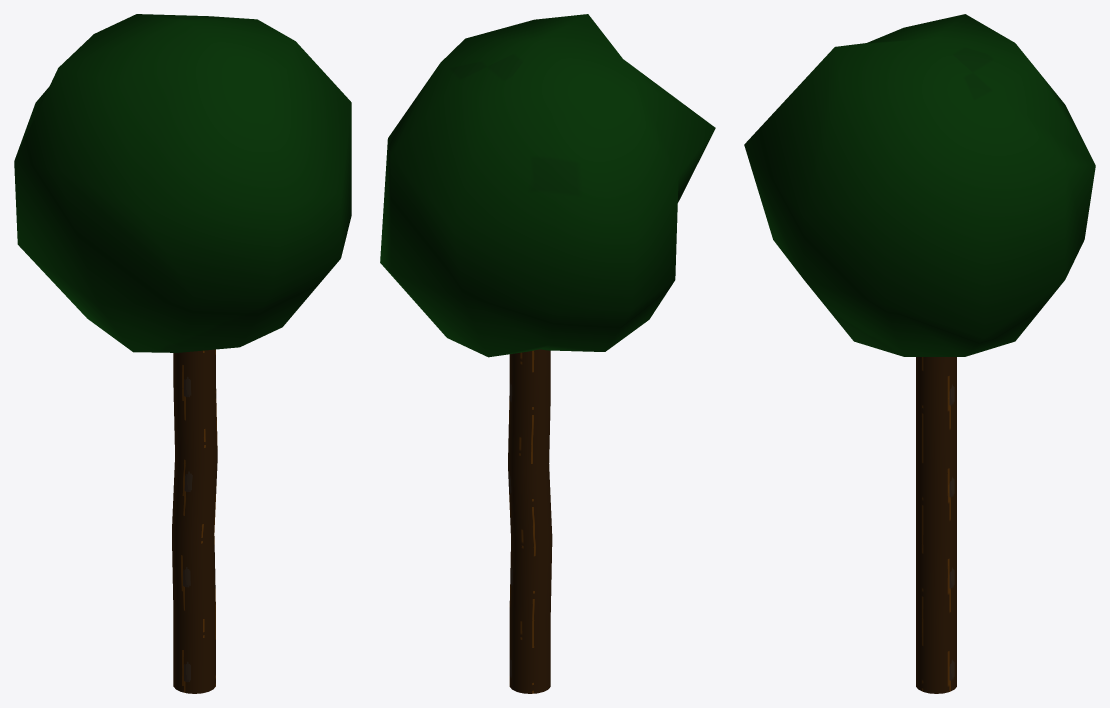
Rendered from baum_export.FBX.
The picture shows the model from 3 angles, left to right: view 1: azimuth 30°, elevation 25°; view 2: azimuth 150°, elevation 25°; view 3: azimuth 270°, elevation 25°; orthographic projection. The views are drawn at different scales.
Parts seen in each view (by area): view 1: Sphere001, Cylinder001; view 2: Sphere001, Cylinder001; view 3: Sphere001, Cylinder001.
Boxes of the visible parts, x1,y1,x2,y2 form: Sphere001: (14, 14, 351, 352); Cylinder001: (172, 349, 217, 693); Sphere001: (380, 14, 715, 357); Cylinder001: (508, 349, 552, 693); Sphere001: (744, 14, 1095, 356); Cylinder001: (916, 357, 956, 693).
Size of the model in its own units: 41.66 by 96.29 by 47.71.
2 materials, 2 textured.
